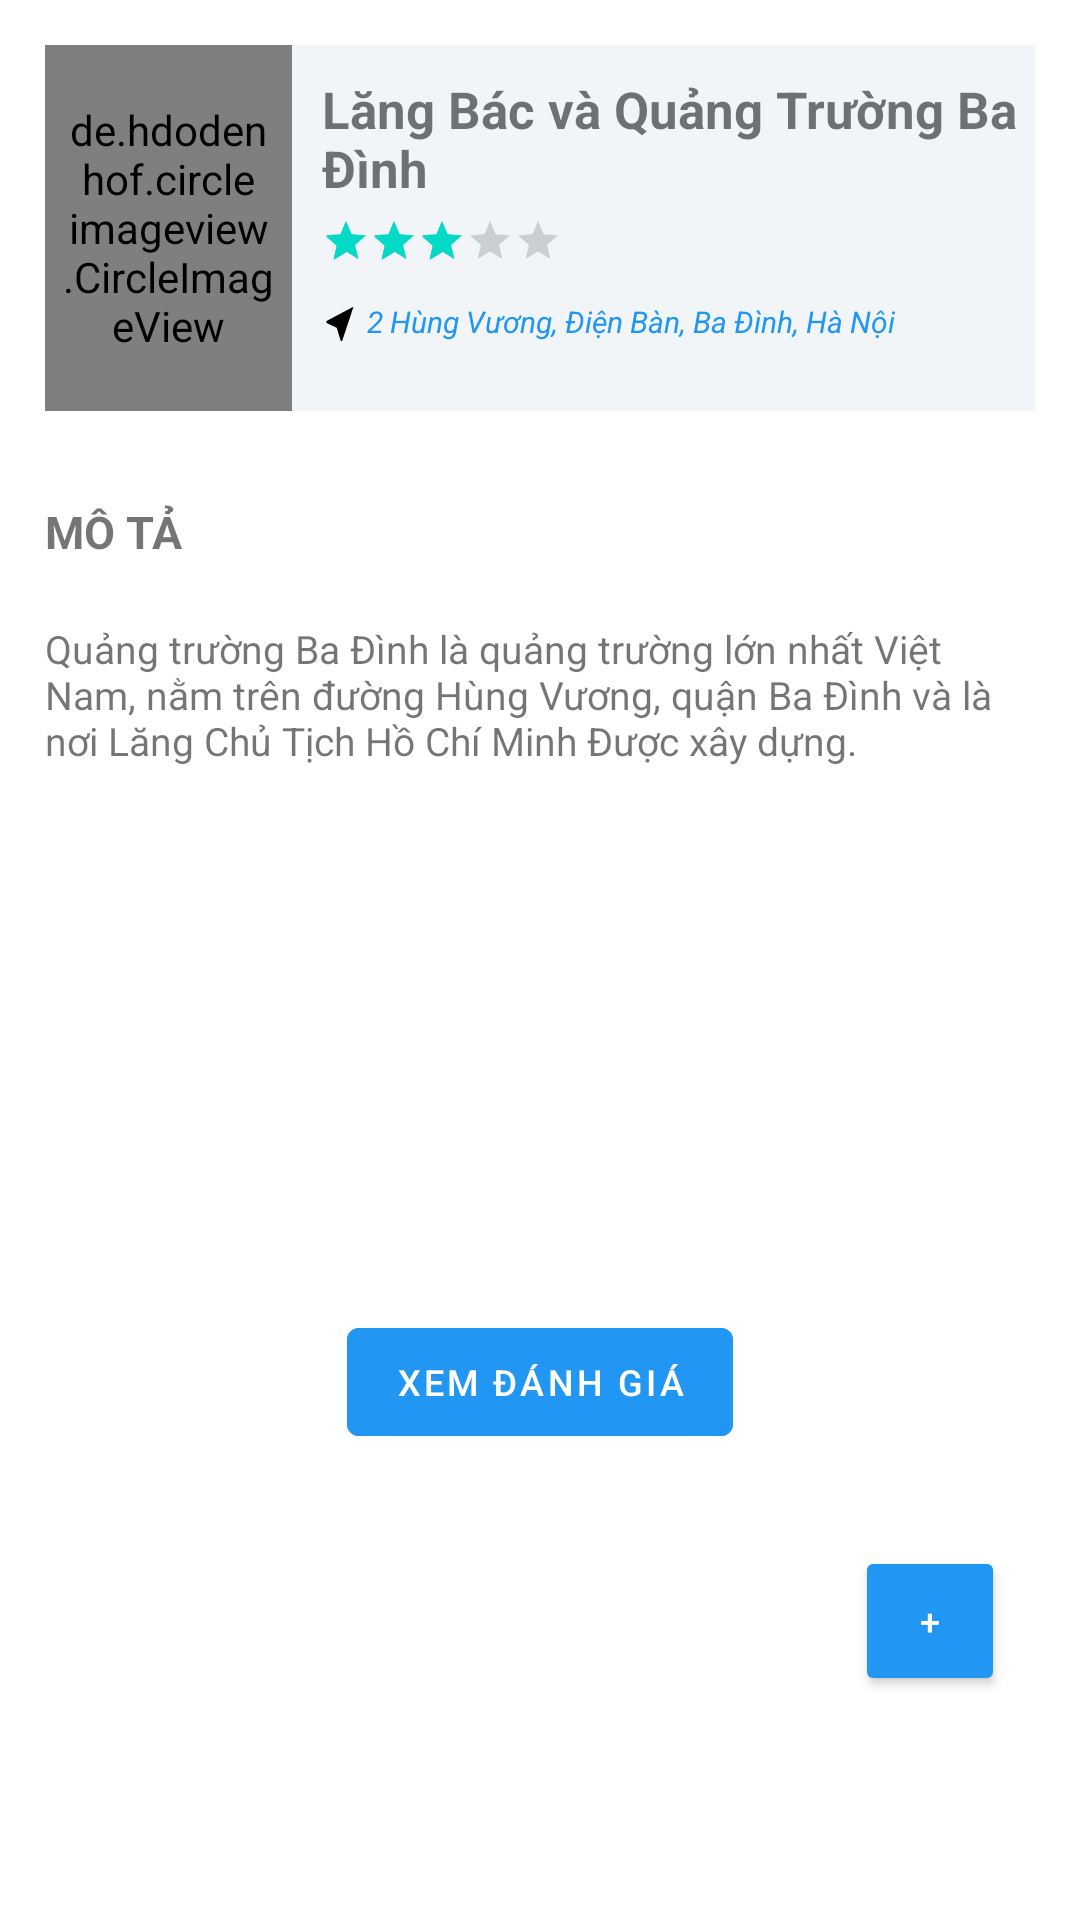

Where icons sit on this 1080w x 1920h app screen, as (x1, y1, x2, y2):
near me: (326, 307, 354, 341)
